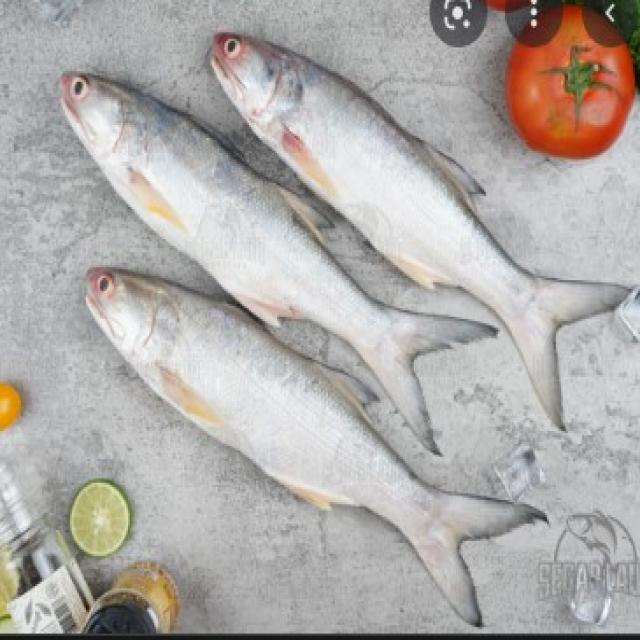Fourfinger-Threadfin: (24, 21, 511, 436), (186, 1, 635, 402), (64, 241, 528, 624)
